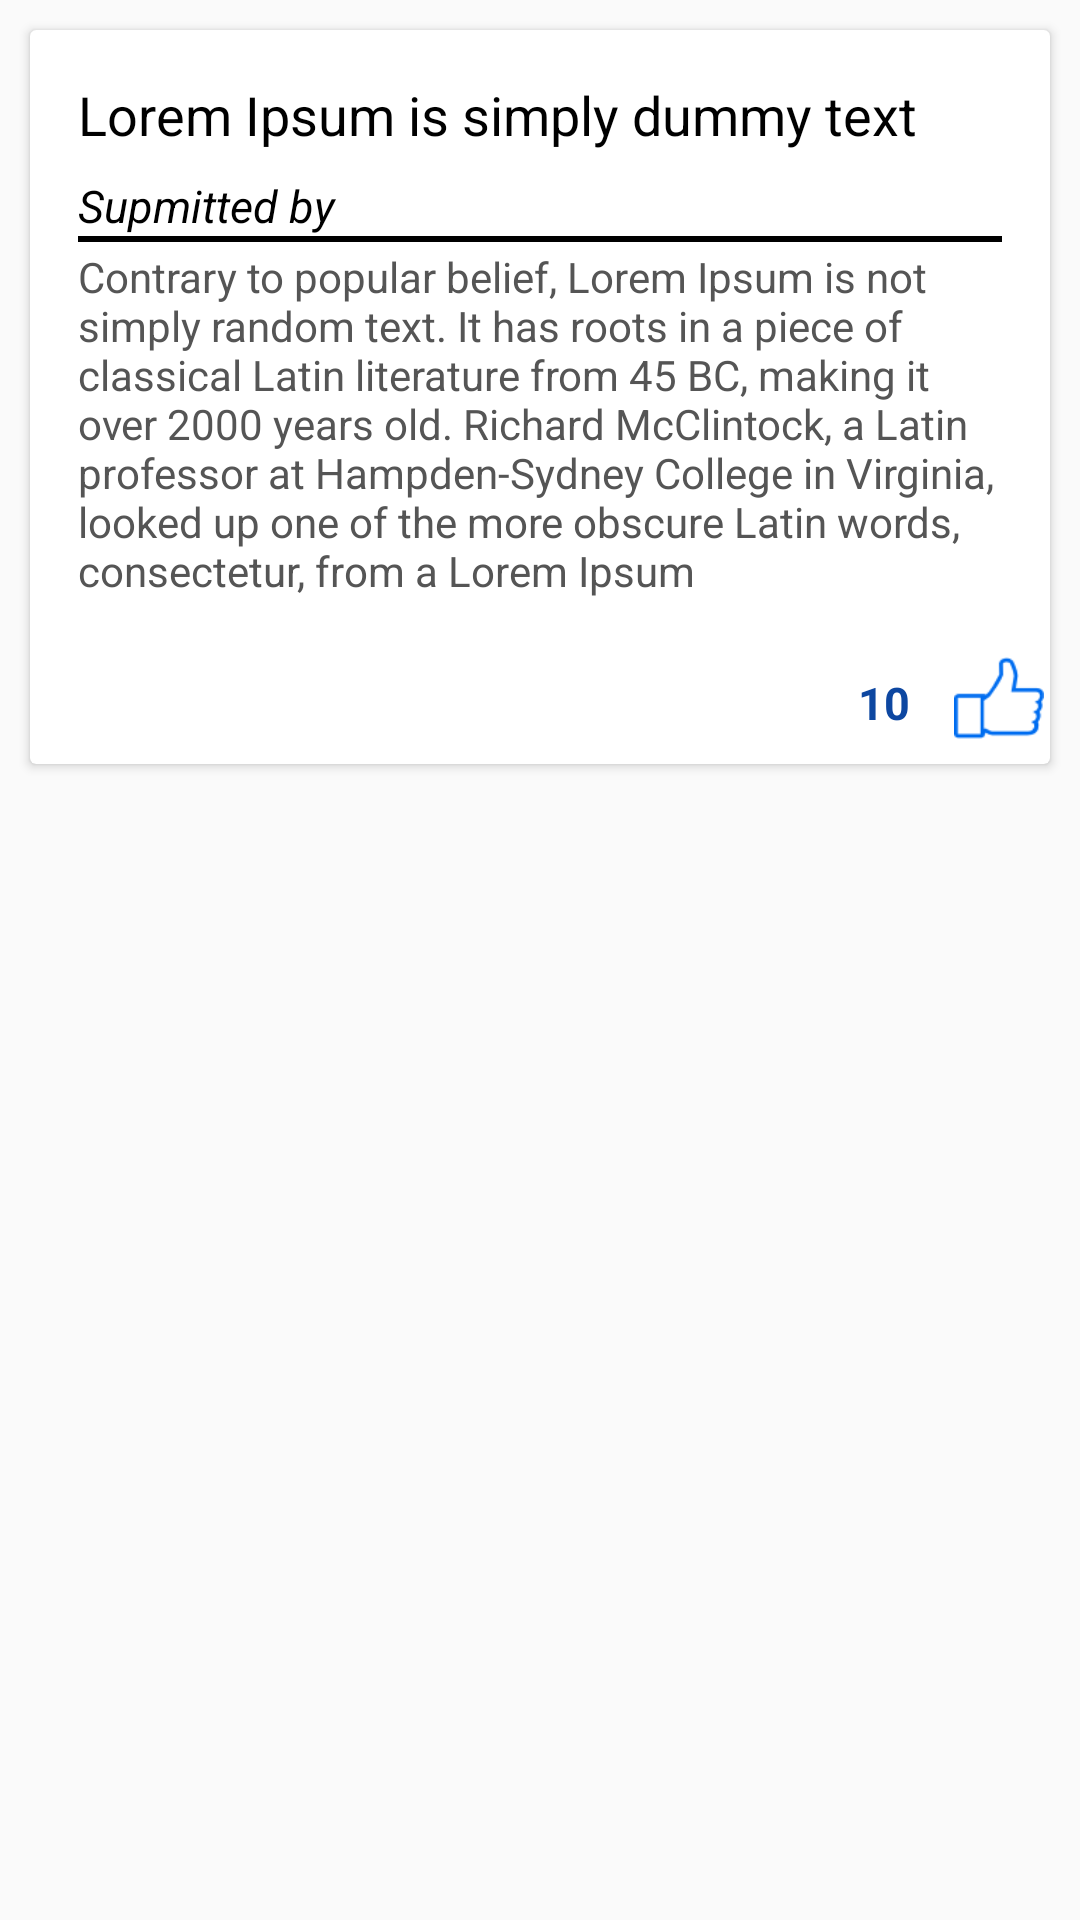

Locate icon controls on the screen. Image size 1080px×1920px, boxes as (x1, y1, x2, y2).
thumb up: (954, 657, 1044, 739)
